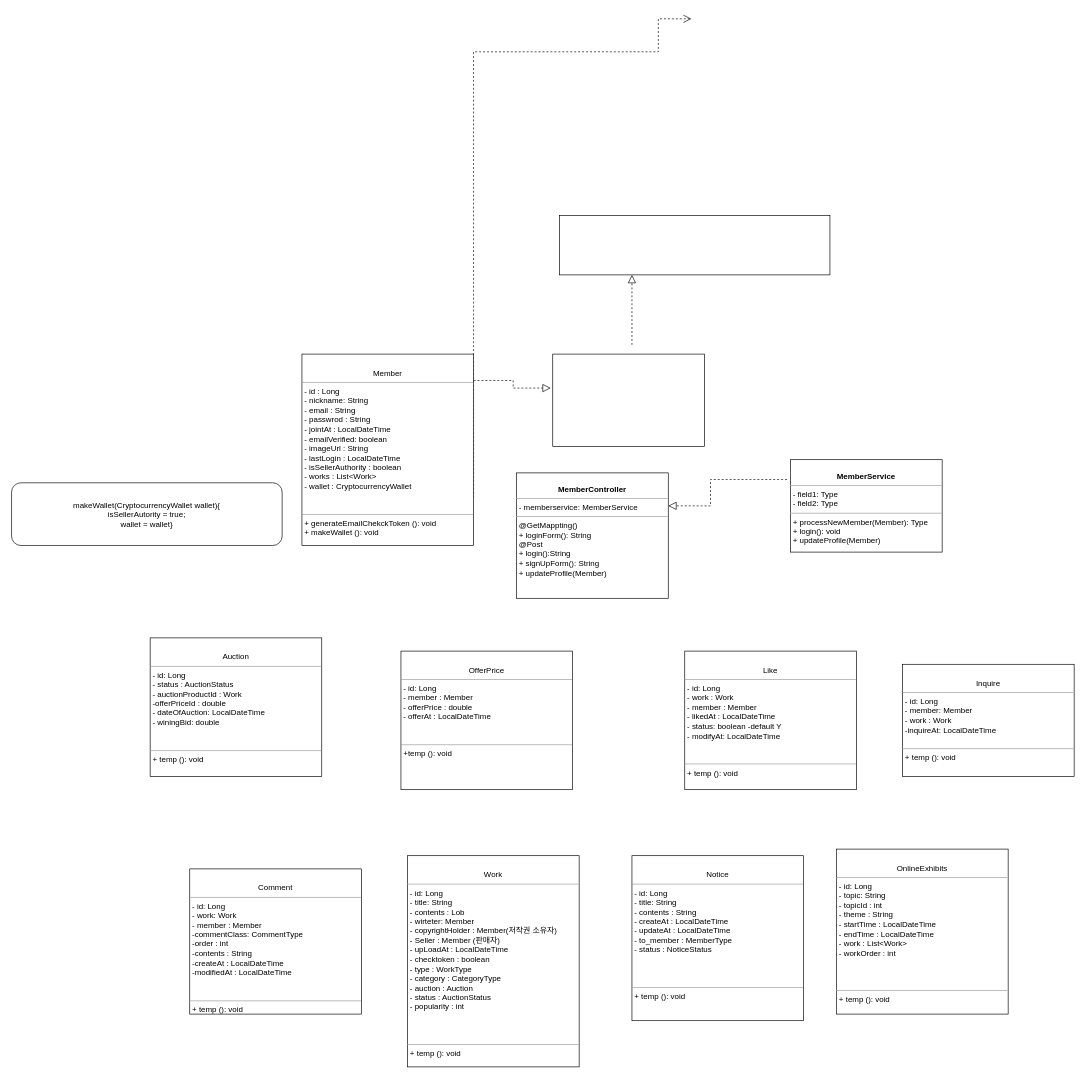
This 1086x1078 diagram has some shape labels left out. Here are the shapes that lost their labels. From the top down, the centre of each, then its label:
the point at 694,245: User ( import org.springframework.security.core.userdetails.User )
the point at 628,399: MemberUser - member: Member + MemberUser(Member member)
